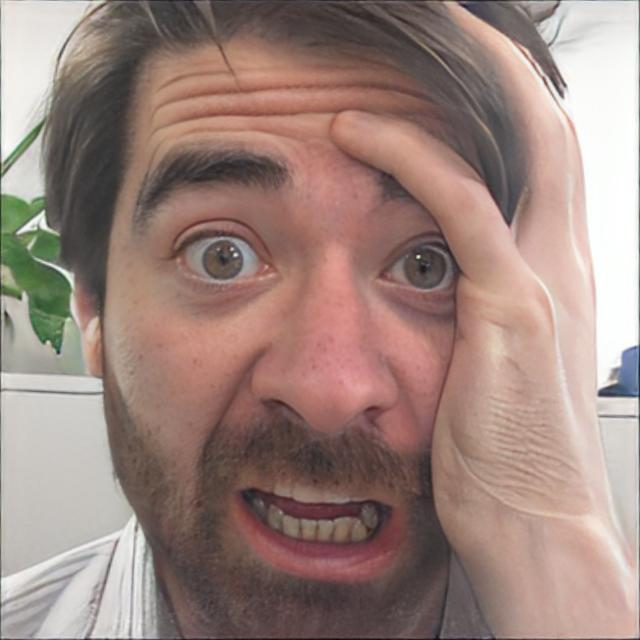Fear: (104, 21, 493, 640)
